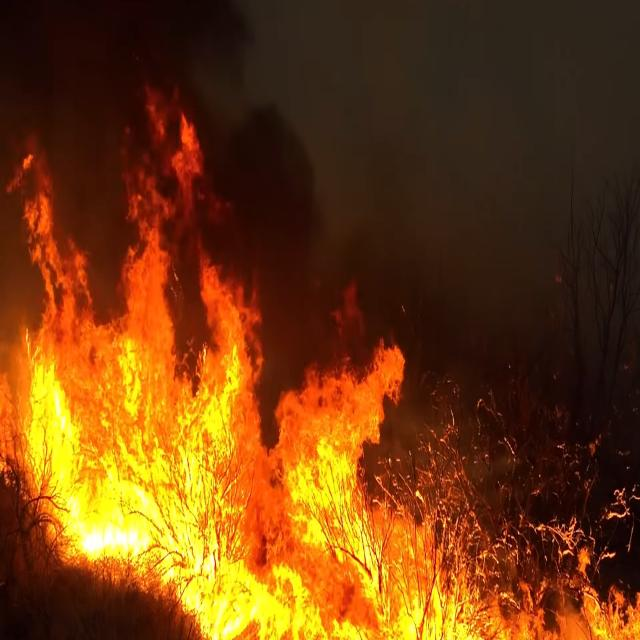fire: (17, 119, 250, 622), (211, 323, 417, 640), (382, 441, 577, 640), (591, 492, 640, 640)
